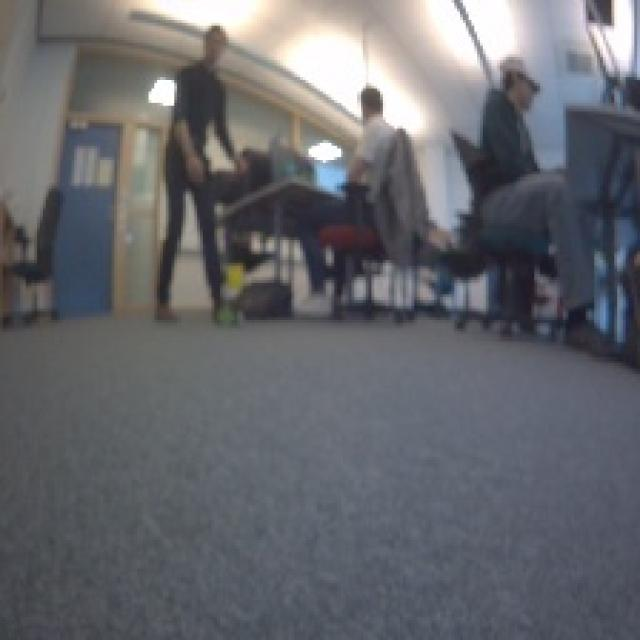robot: (210, 296, 246, 328)
